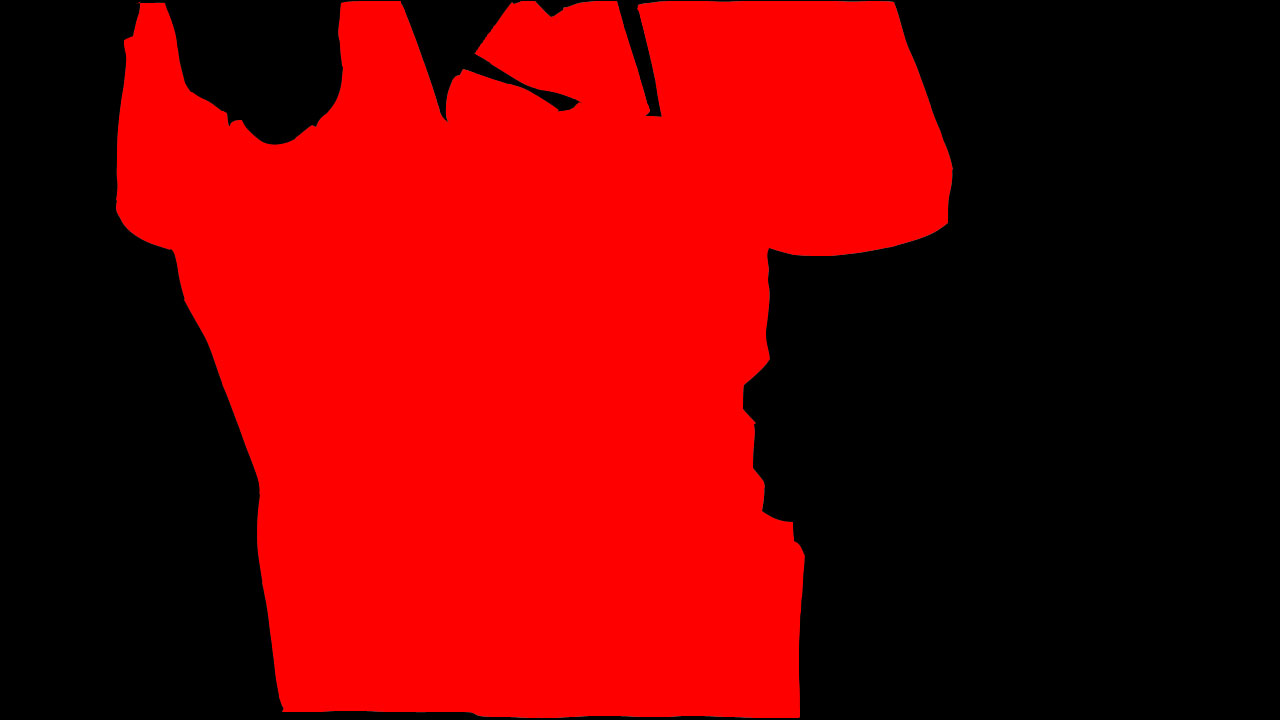uniforme_ifmt: (115, 2, 961, 717)
